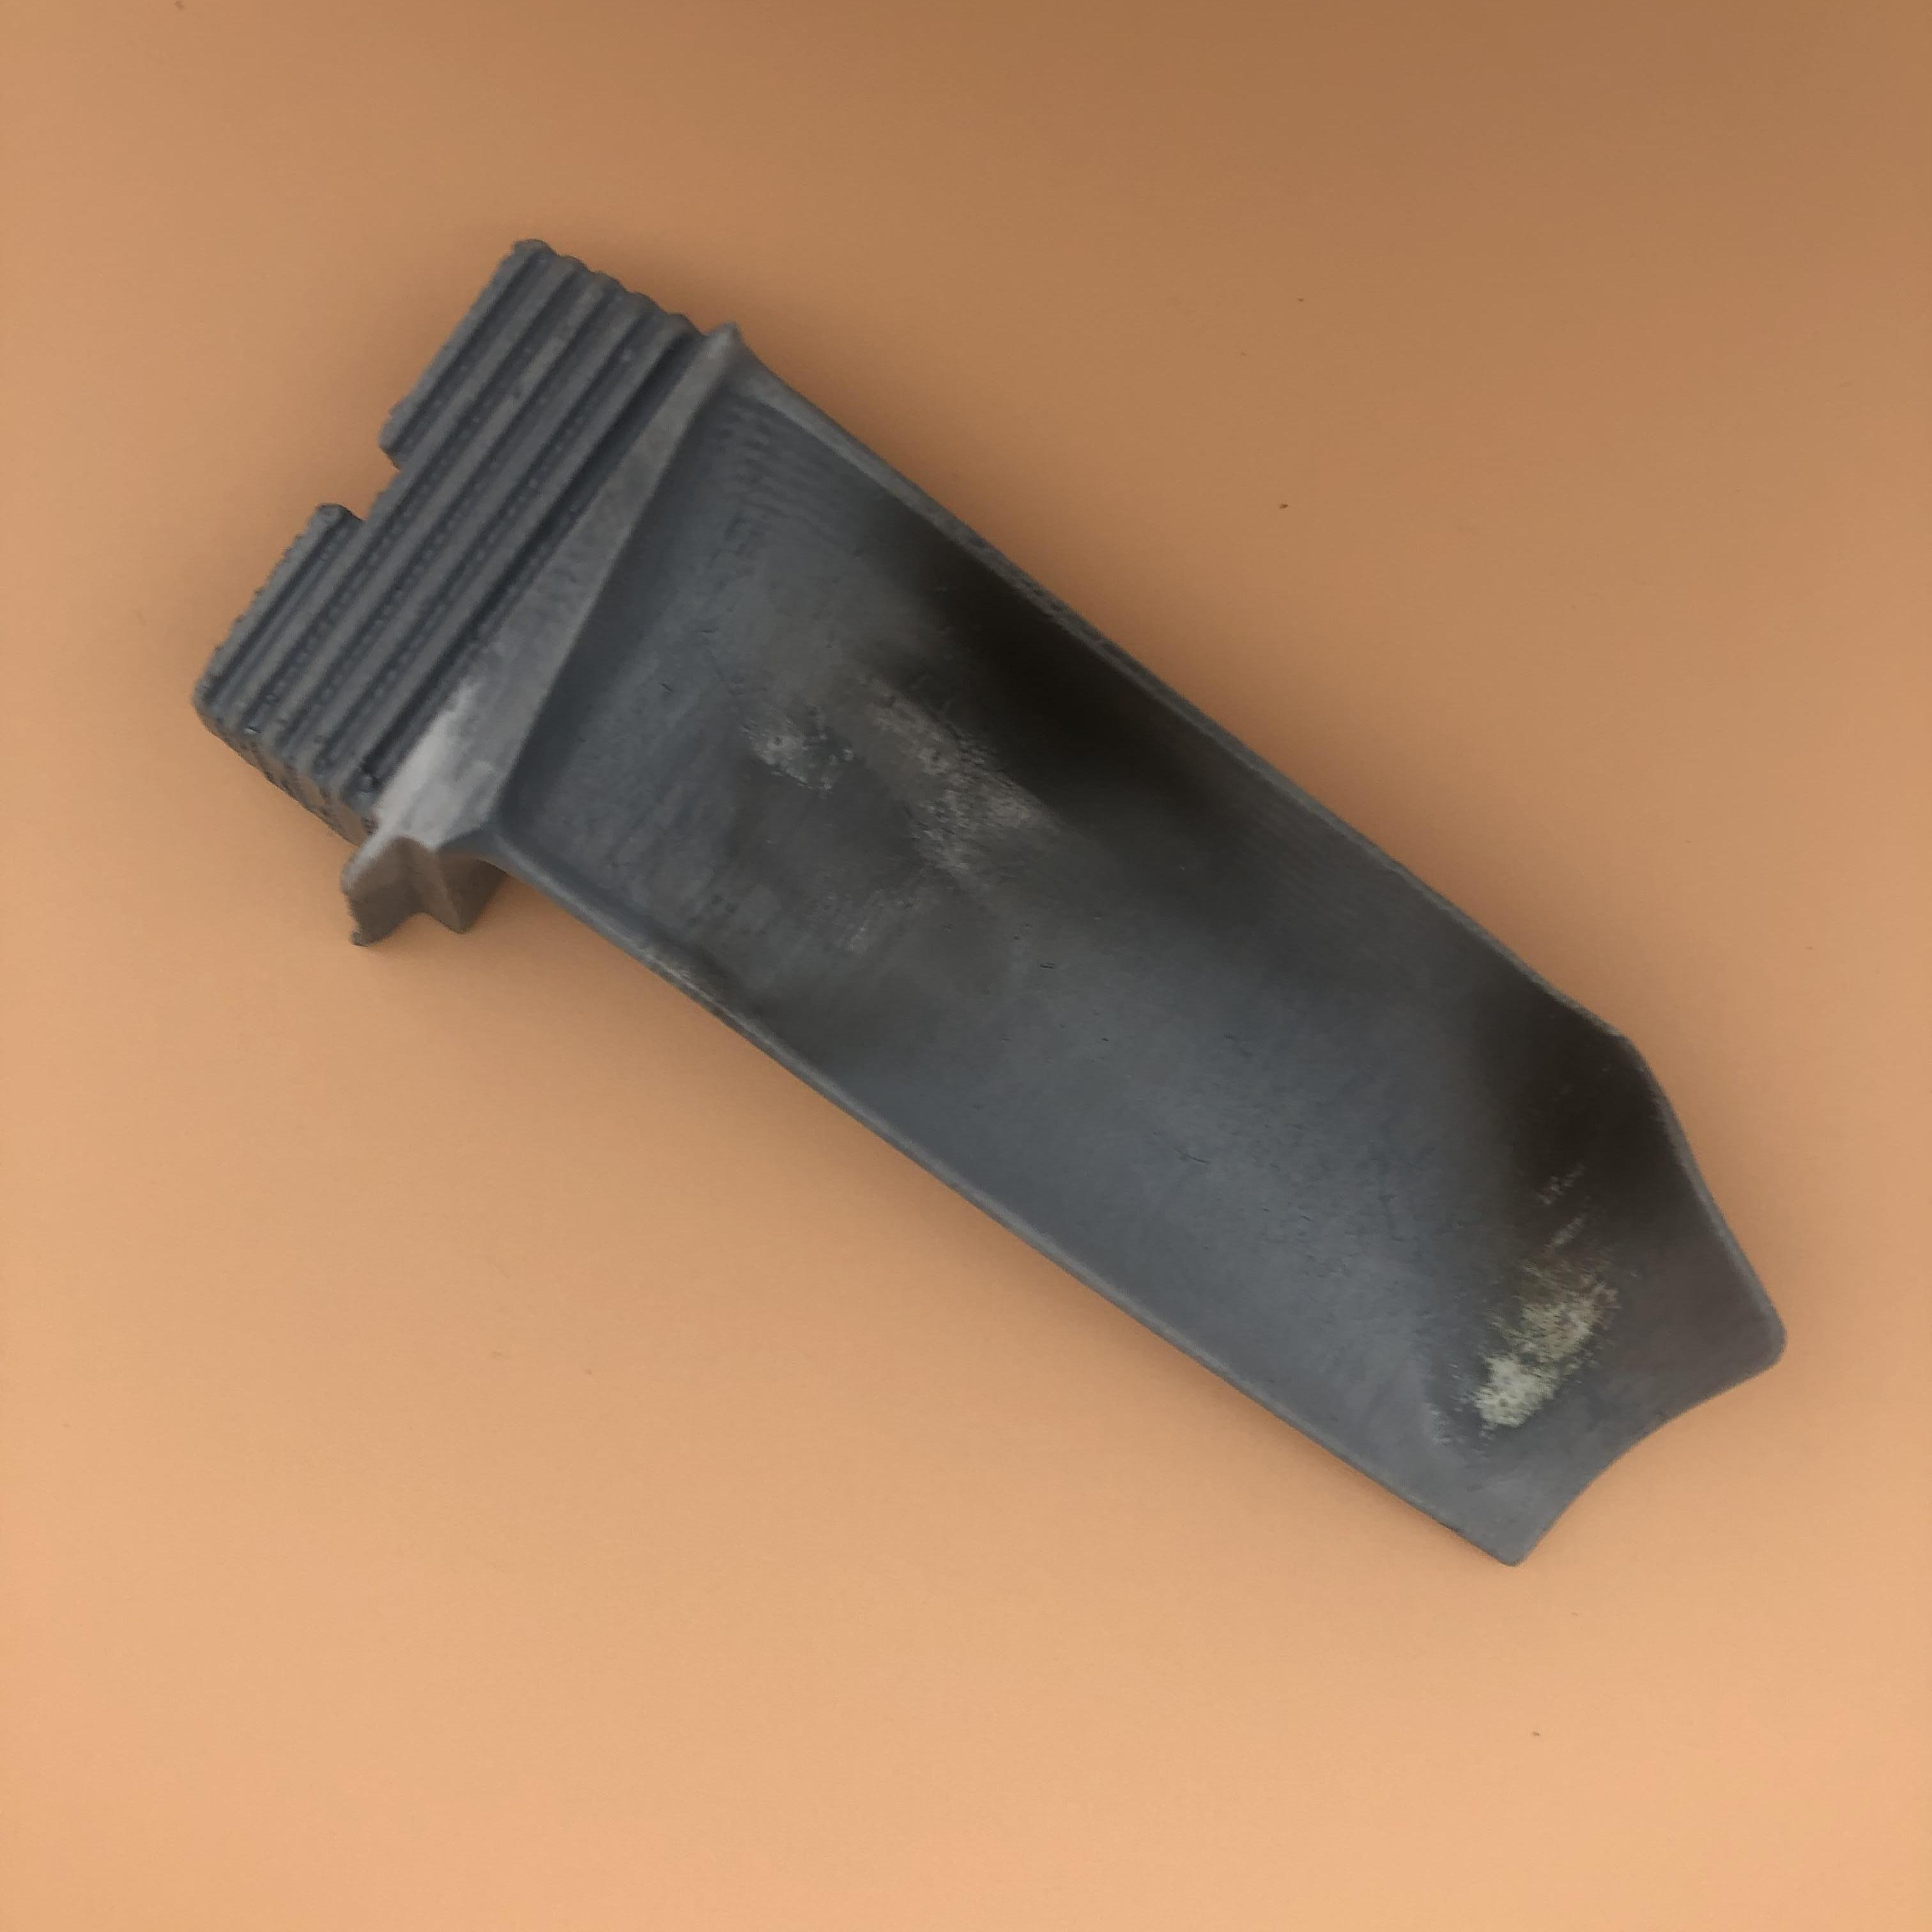ablation: (881, 570, 1207, 874), (1491, 1007, 1679, 1362)
